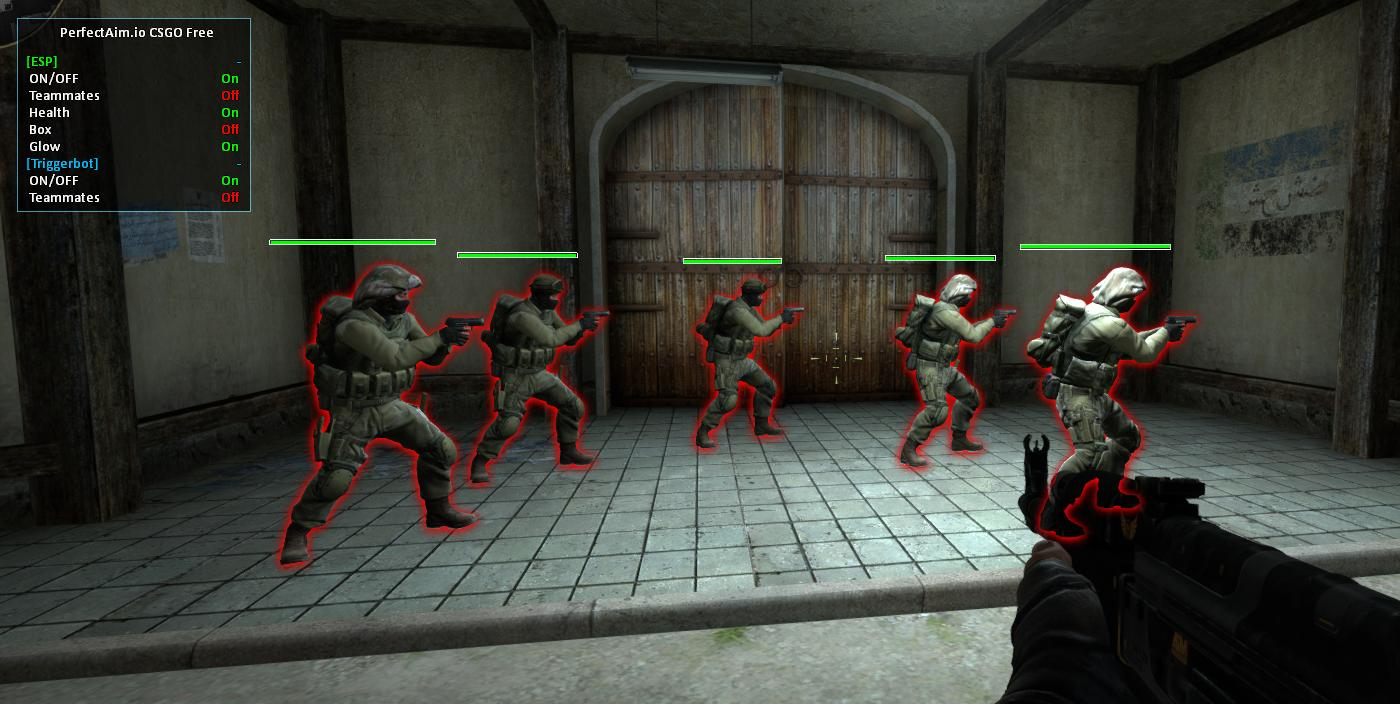c: (283, 258, 450, 560), (1045, 261, 1155, 536), (474, 270, 587, 477), (691, 275, 784, 444), (903, 266, 980, 455)
ch: (343, 259, 428, 323), (1087, 263, 1150, 312), (934, 267, 981, 308), (521, 271, 567, 310), (733, 277, 772, 304)
